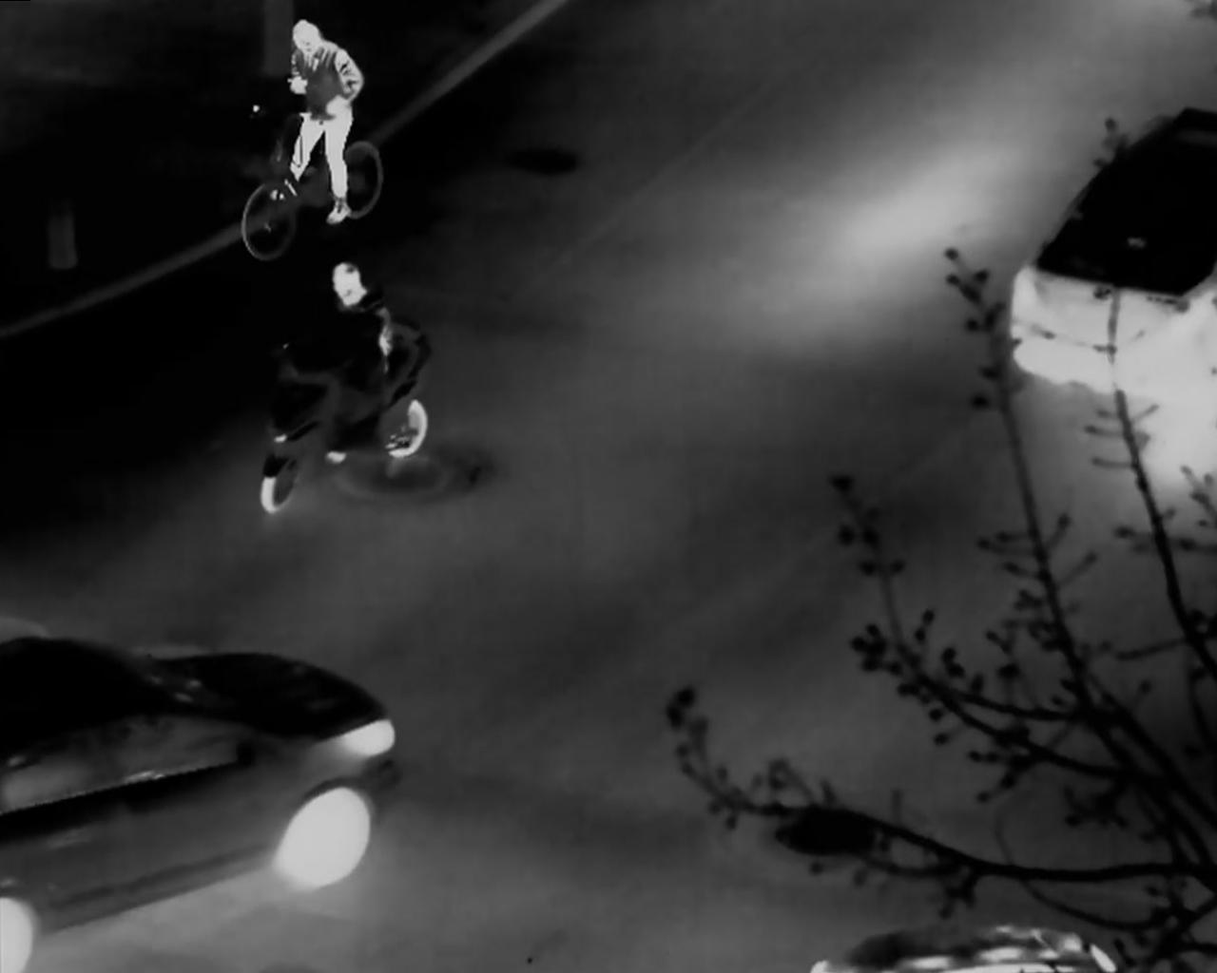person: (274, 10, 374, 238), (317, 264, 396, 430)
